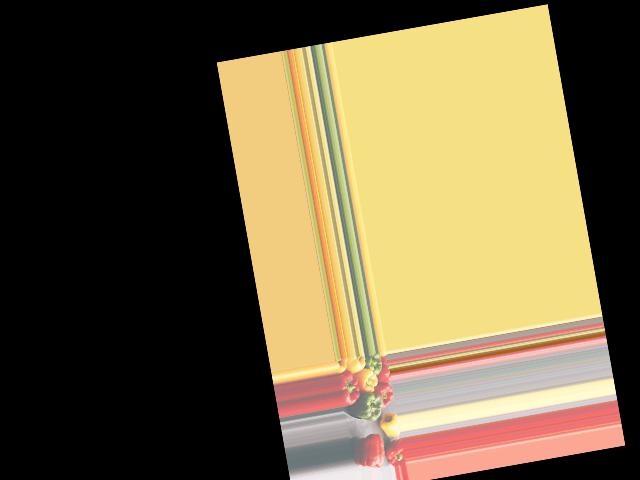bell_pepper: (384, 438, 404, 468)
